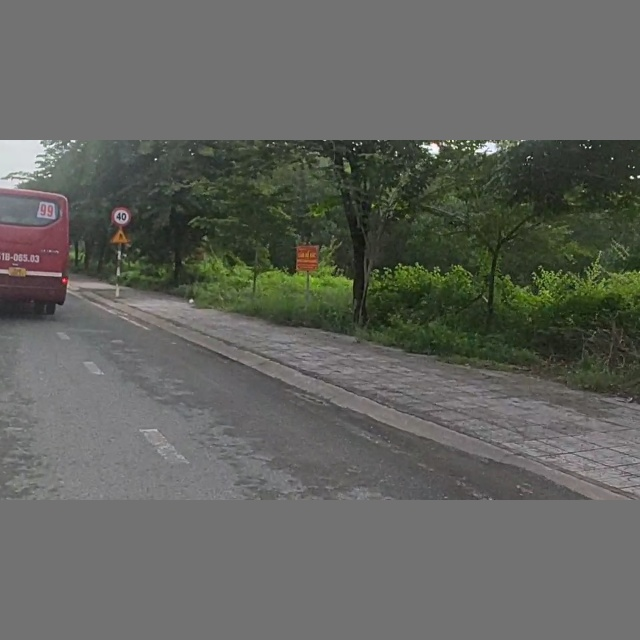P.127*40: (111, 204, 134, 227)
W.224: (111, 226, 131, 246)
